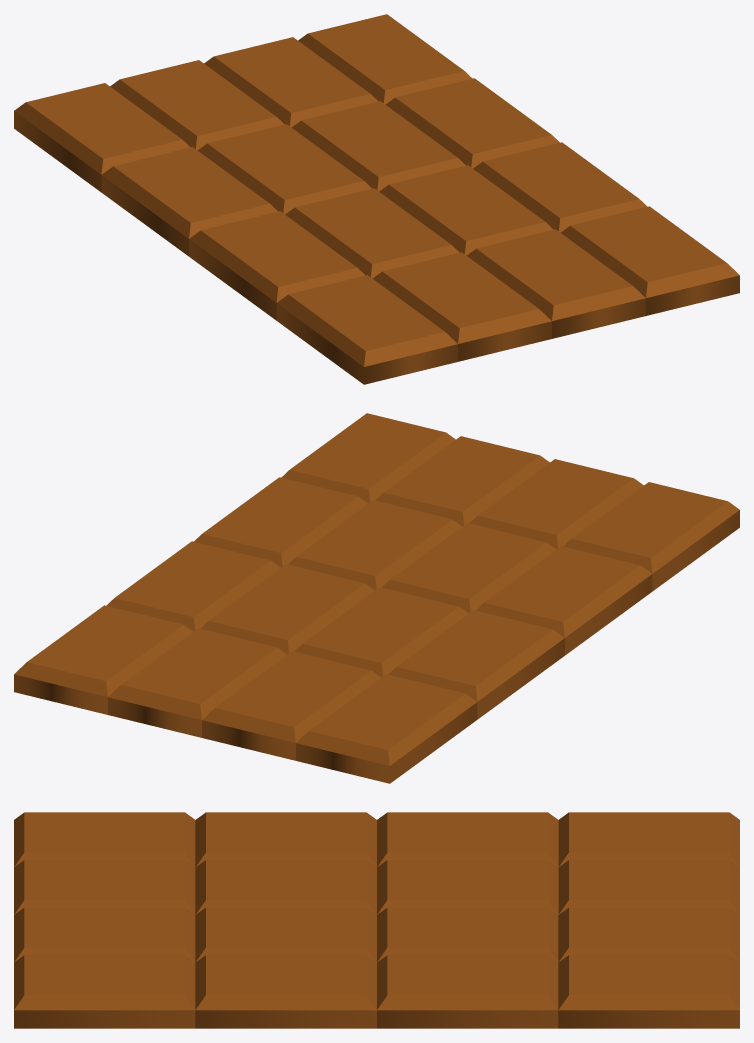
Rendered from Chocolate_Bar_Broken.fbx.
3 renders of one model, top to bottom at view 1: azimuth 30°, elevation 25°; view 2: azimuth 150°, elevation 25°; view 3: azimuth 270°, elevation 25°, orthographic. The views are drawn at different scales.
Visible parts, largest first — view 1: Plane.016, Plane.013, Plane.014, Plane.015, Plane.008, Plane.009, Plane.006, Plane.002, Plane.007, Plane.010, Plane.011, Plane.001 (+4 smaller); view 2: Plane.008, Plane.001, Plane.002, Plane.007, Plane.006, Plane.016, Plane.009, Plane.014, Plane.004, Plane.005, Plane.015, Plane.003 (+4 smaller); view 3: Plane.001, Plane.003, Plane.012, Plane.013, Plane.002, Plane.011, Plane.004, Plane.005, Plane.007, Plane.010, Plane.014, Plane.015 (+4 smaller).
Boxes of the visible parts, <box> form: Plane.016: <box>276,275,457,384</box>; Plane.013: <box>560,206,739,315</box>; Plane.014: <box>466,229,645,338</box>; Plane.015: <box>372,252,551,361</box>; Plane.008: <box>14,83,190,192</box>; Plane.009: <box>189,211,365,320</box>; Plane.006: <box>101,147,277,256</box>; Plane.002: <box>204,37,378,127</box>; Plane.007: <box>110,60,284,150</box>; Plane.010: <box>285,188,459,278</box>; Plane.011: <box>379,165,553,255</box>; Plane.001: <box>298,14,472,104</box>; Plane.008: <box>296,674,477,783</box>; Plane.001: <box>14,605,193,714</box>; Plane.002: <box>108,628,287,737</box>; Plane.007: <box>202,651,381,760</box>; Plane.006: <box>388,610,564,719</box>; Plane.016: <box>563,482,739,591</box>; Plane.009: <box>476,546,652,655</box>; Plane.014: <box>375,436,549,526</box>; Plane.004: <box>200,564,374,654</box>; Plane.005: <box>294,587,468,677</box>; Plane.015: <box>469,459,643,549</box>; Plane.003: <box>106,541,280,631</box>; Plane.001: <box>558,955,739,1028</box>; Plane.003: <box>377,955,558,1028</box>; Plane.012: <box>195,955,376,1028</box>; Plane.013: <box>14,955,195,1028</box>; Plane.002: <box>558,907,739,962</box>; Plane.011: <box>195,907,376,962</box>; Plane.004: <box>377,907,558,962</box>; Plane.005: <box>377,860,558,914</box>; Plane.007: <box>558,860,739,914</box>; Plane.010: <box>195,860,376,914</box>; Plane.014: <box>14,907,195,962</box>; Plane.015: <box>14,860,195,914</box>.
Bounding box in the file's own units: 2.42 × 0.1746 × 3.91.
